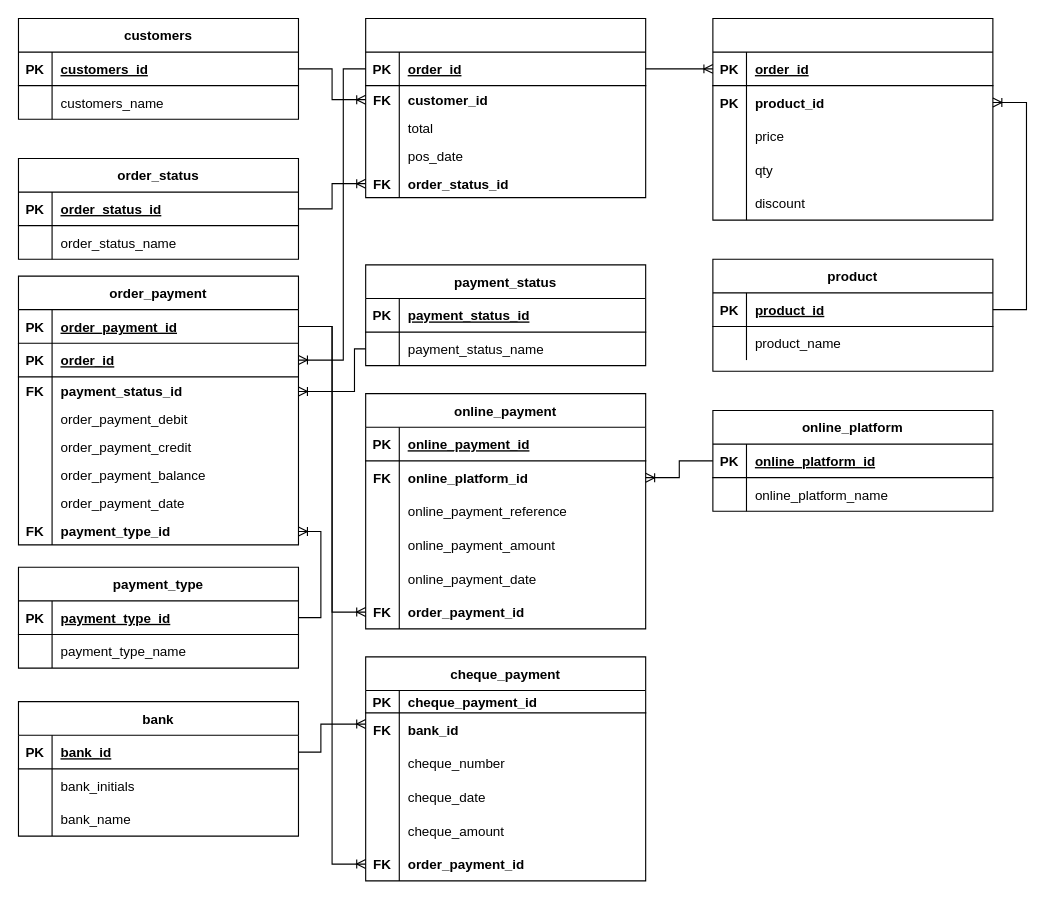
This 1045x899 diagram has some shape labels left out. Here are the shapes that lost their labels. From the top down, the box of each, then its label:
(365, 17, 646, 198): order_tb
(712, 17, 993, 220): order_product
